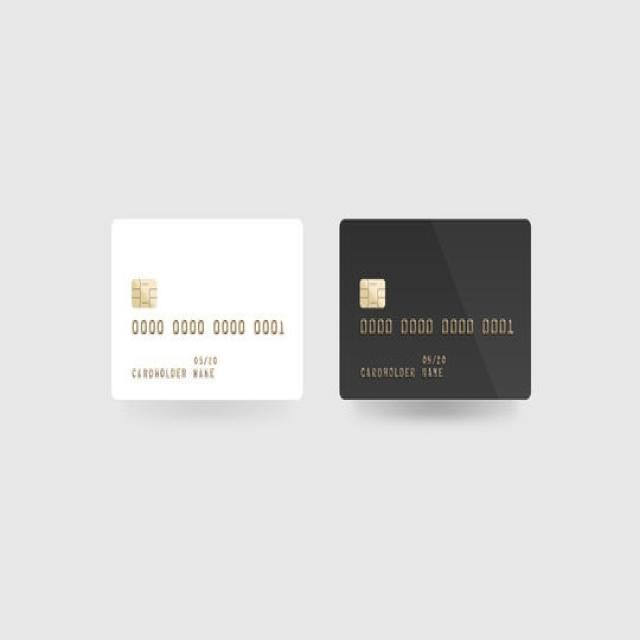payment_card: (109, 217, 303, 401), (337, 217, 532, 400)
